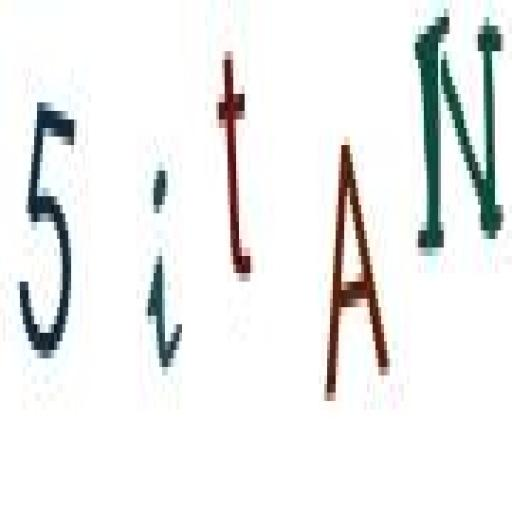5: (13, 62, 82, 388)
A: (317, 126, 396, 402)
N: (410, 5, 509, 284)
i: (142, 159, 186, 395)
t: (210, 38, 261, 306)
